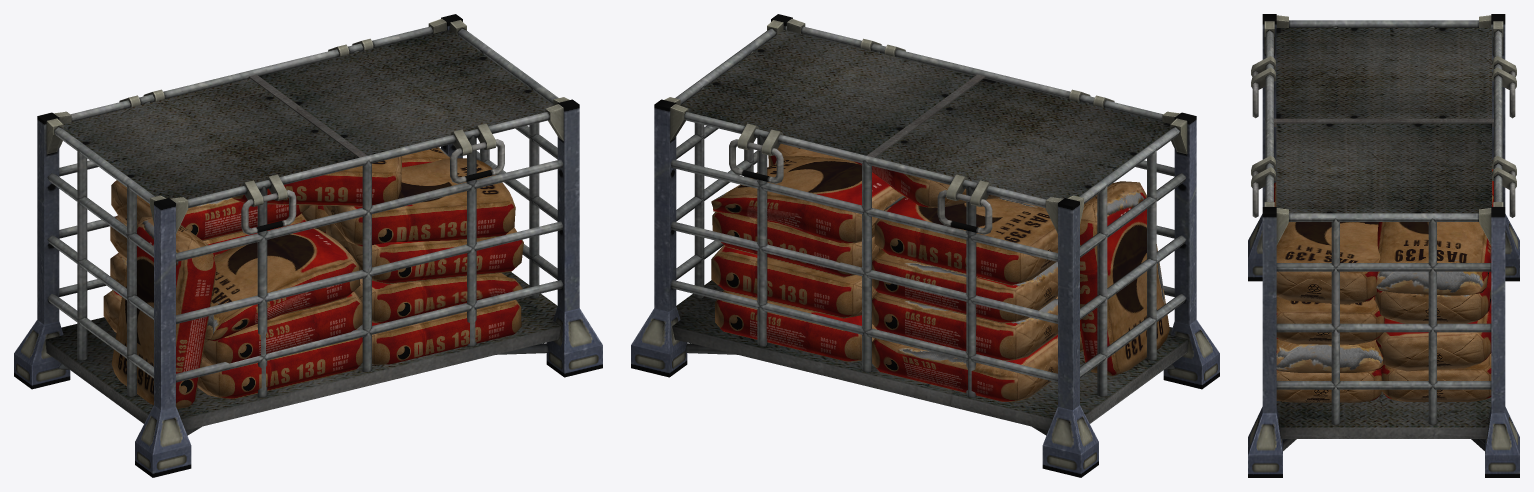
Rendered from Model_Crate_05.fbx.
3 renders of one model, left to right at view 1: azimuth 30°, elevation 25°; view 2: azimuth 150°, elevation 25°; view 3: azimuth 270°, elevation 25°, orthographic. The views are drawn at different scales.
Visible parts, largest first — view 1: Crate_05_LOD0; view 2: Crate_05_LOD0; view 3: Crate_05_LOD0.
Part boxes in pixels (x1,y1,x2,y2): Crate_05_LOD0: (14, 14, 602, 477); Crate_05_LOD0: (631, 14, 1219, 477); Crate_05_LOD0: (1248, 14, 1519, 477).
Size of what is drawn, in the model's own units: 204 by 114 by 109.
